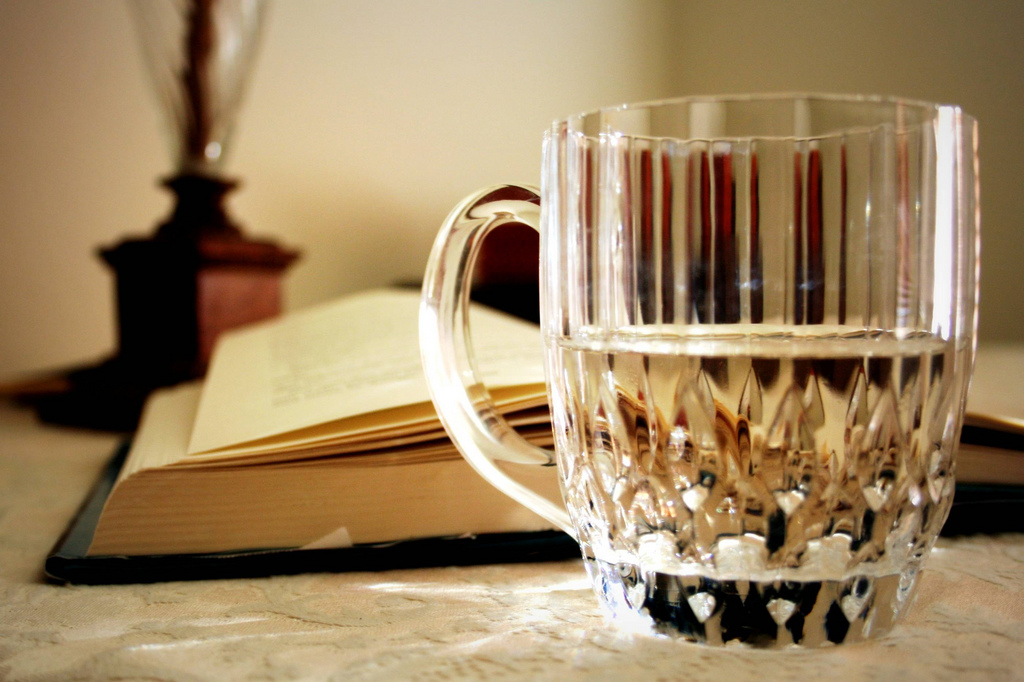glass of water: (514, 92, 950, 636)
